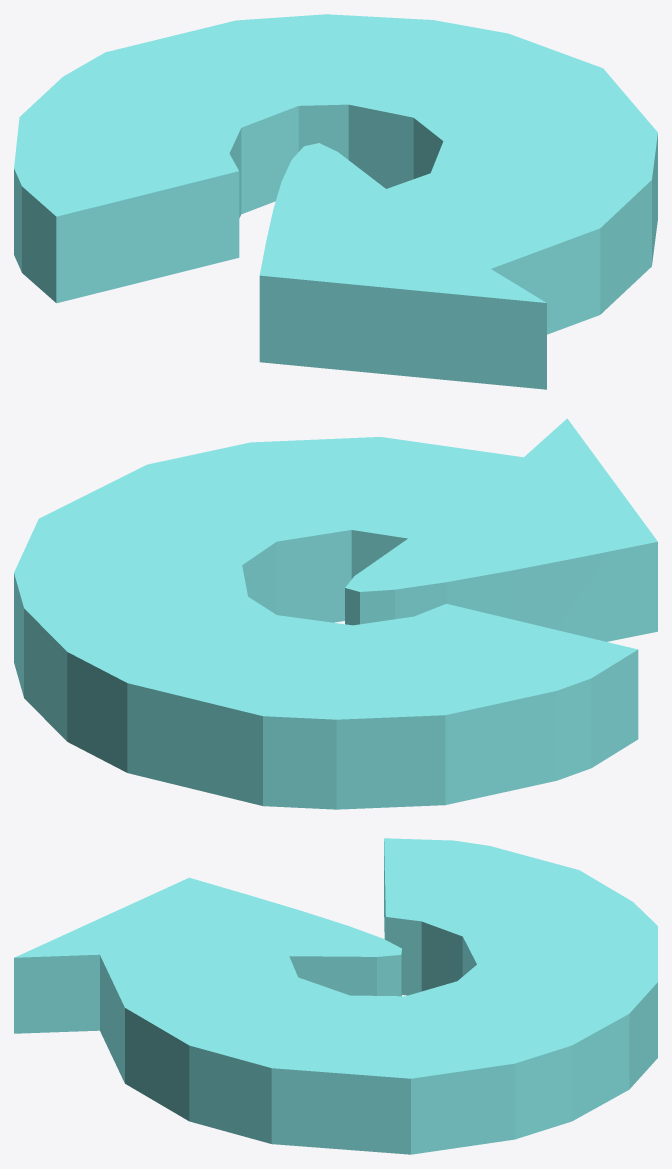
The model's file is rotation_item_1.glb.
3 views of the same model, one above another, from view 1: azimuth 30°, elevation 25°; view 2: azimuth 150°, elevation 25°; view 3: azimuth 270°, elevation 25° (orthographic). The views are drawn at different scales.
Parts seen in each view (by area): view 1: Line001; view 2: Line001; view 3: Line001.
Part boxes in pixels (x1,y1,x2,y2): Line001: (14, 14, 657, 389); Line001: (14, 418, 657, 809); Line001: (14, 838, 657, 1154).
Size of the model in its own units: 5.03 by 0.7415 by 5.7.
